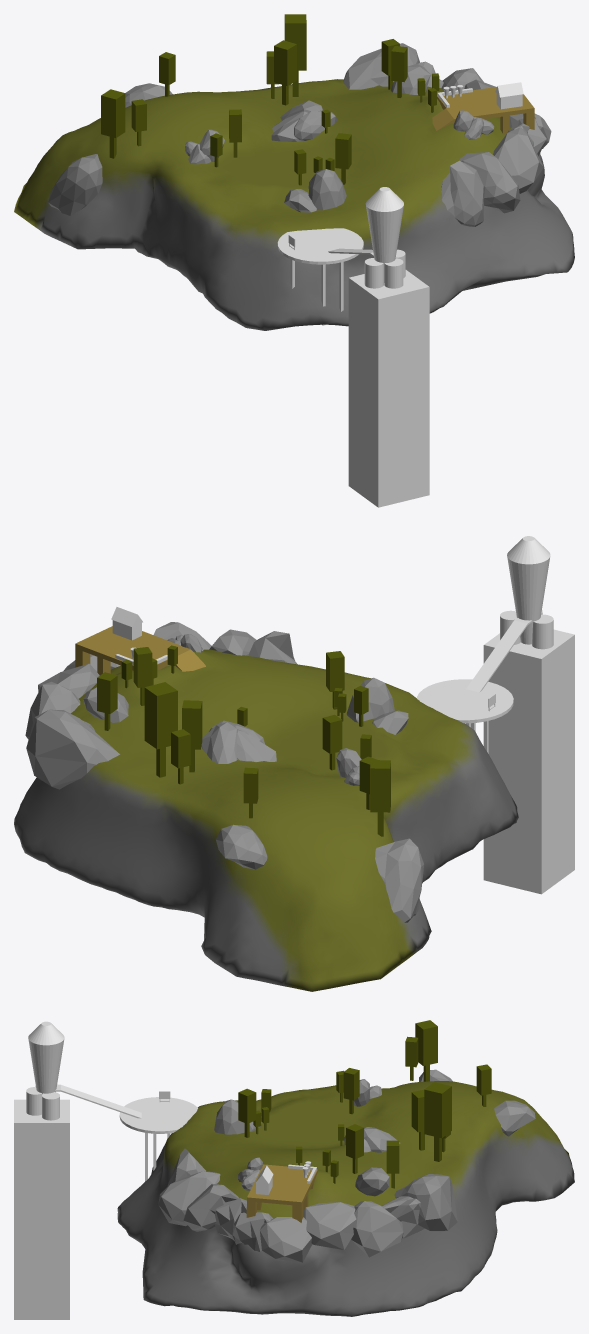
Rendered from zuhause.glb.
3 views of the same model, one above another, from view 1: azimuth 30°, elevation 25°; view 2: azimuth 150°, elevation 25°; view 3: azimuth 270°, elevation 25° (orthographic). The views are drawn at different scales.
Parts seen in each view (by area): view 1: Plane, Cube.005, Icosphere.001, Cube.001, Cylinder, Cube.003, Cube, Cube.002; view 2: Plane, Icosphere.001, Cube.005, Cube.001, Cylinder, Cube.003, Cube, Cube.002; view 3: Plane, Icosphere.001, Cube.005, Cube.001, Cylinder, Cube.003, Cube, Cube.002.
Part boxes in pixels (<box>): Plane: <box>14,79,574,330</box>; Cube.005: <box>348,270,429,507</box>; Icosphere.001: <box>48,43,551,226</box>; Cube.001: <box>101,14,439,185</box>; Cylinder: <box>328,187,405,288</box>; Cube.003: <box>277,228,363,325</box>; Cube: <box>432,87,534,134</box>; Cube.002: <box>495,82,523,109</box>; Plane: <box>14,649,518,991</box>; Icosphere.001: <box>25,622,424,922</box>; Cube.005: <box>483,629,574,894</box>; Cube.001: <box>97,645,390,836</box>; Cylinder: <box>466,536,553,692</box>; Cube.003: <box>416,679,513,753</box>; Cube: <box>75,626,205,675</box>; Cube.002: <box>111,607,142,640</box>; Plane: <box>117,1081,574,1316</box>; Icosphere.001: <box>158,1069,535,1262</box>; Cube.005: <box>14,1099,69,1319</box>; Cube.001: <box>238,1020,491,1188</box>; Cylinder: <box>26,1021,141,1120</box>; Cube.003: <box>119,1097,197,1181</box>; Cube: <box>246,1164,317,1222</box>; Cube.002: <box>255,1165,273,1194</box>.
Size of the model in its own units: 309 by 215 by 385.
4 materials, 1 textured.
